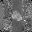people: (12, 11, 22, 22)
